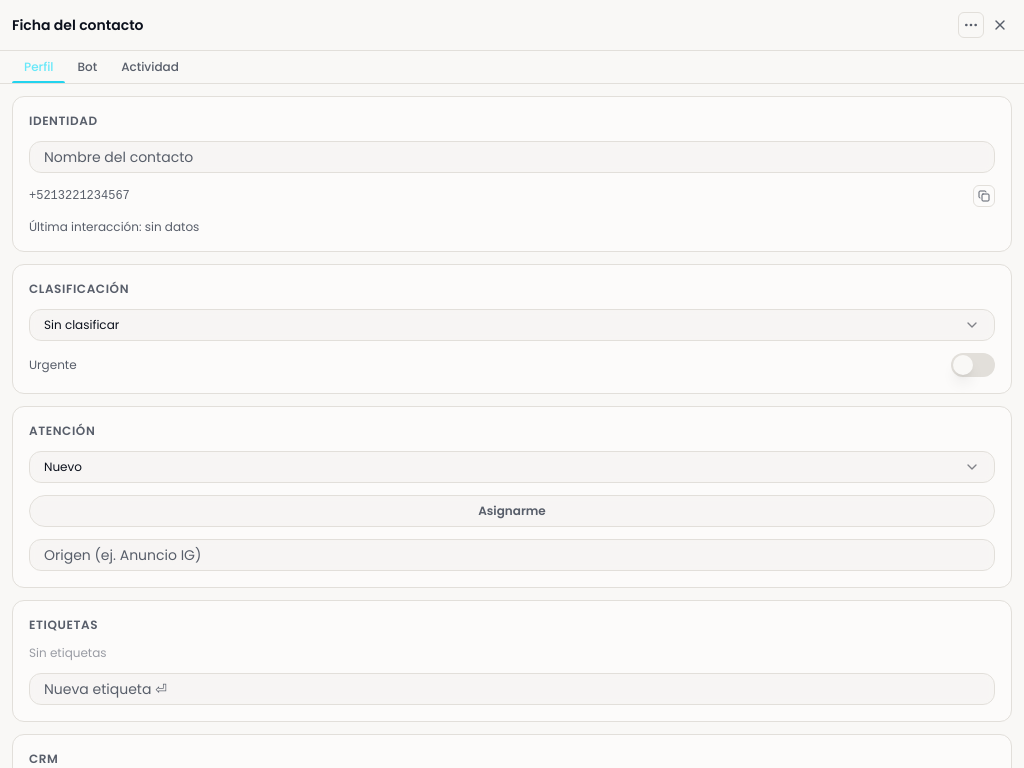
ContactPanel — memoria del bot (Fase 2) › muestra el estado vacío cuando el bot no recuerda nada del contacto
Click the tab "Bot" at (87,67), box [66,51,109,83]
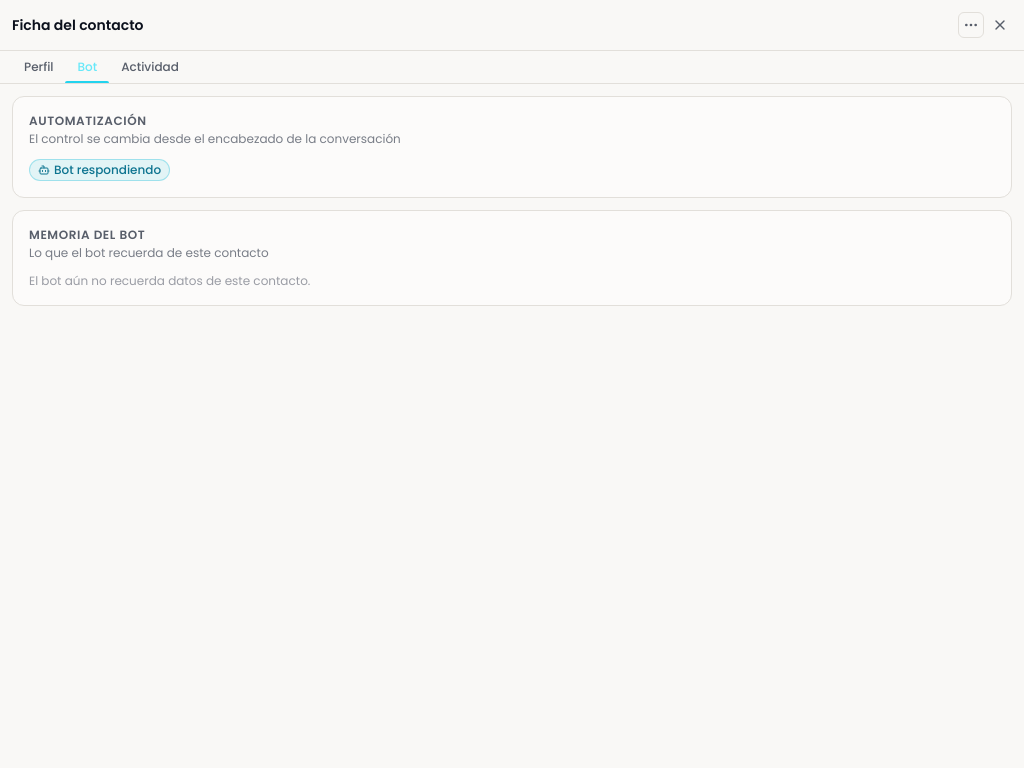
Expected: the text "El bot aún no recuerda datos de este contacto." is shown, [29,272,310,289]
